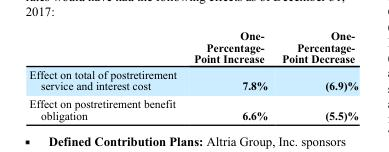table: (28, 29, 358, 121)
table column: (28, 29, 184, 121), (184, 29, 274, 121), (274, 29, 358, 121)
table column header: (28, 29, 358, 66)
table row: (28, 29, 358, 66), (28, 66, 358, 94), (28, 94, 358, 121)
